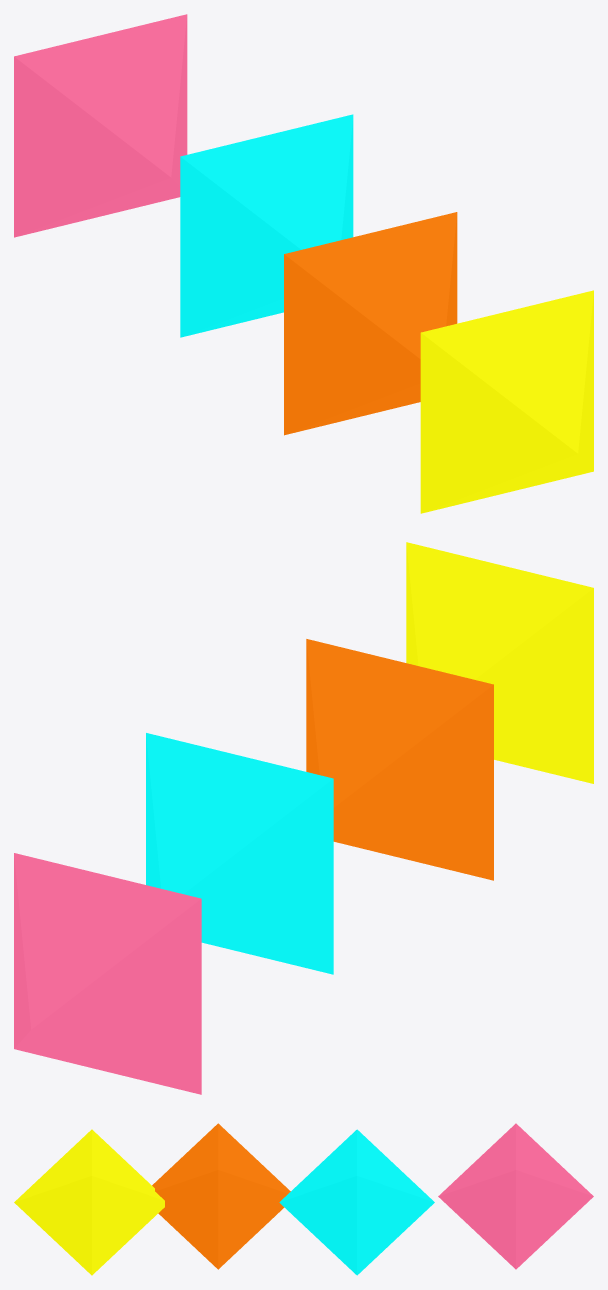
Rendered from hedra.fbx.
3 renders of one model, top to bottom at view 1: azimuth 30°, elevation 25°; view 2: azimuth 150°, elevation 25°; view 3: azimuth 270°, elevation 25°, orthographic. The views are drawn at different scales.
Parts seen in each view (by area): view 1: Hedra002, Hedra004, Hedra003, Hedra001; view 2: Hedra004, Hedra003, Hedra001, Hedra002; view 3: Hedra004, Hedra001, Hedra002, Hedra003.
Boxes of the visible parts, <box> form: Hedra002: <box>420,290,593,513</box>; Hedra004: <box>14,14,187,237</box>; Hedra003: <box>284,212,457,435</box>; Hedra001: <box>180,114,353,337</box>; Hedra004: <box>14,853,201,1094</box>; Hedra003: <box>306,639,493,880</box>; Hedra001: <box>146,733,333,974</box>; Hedra002: <box>406,542,593,783</box>; Hedra004: <box>438,1123,593,1269</box>; Hedra001: <box>279,1129,434,1275</box>; Hedra002: <box>14,1129,164,1275</box>; Hedra003: <box>152,1123,290,1269</box>.
Bounding box in the file's own units: 1778 × 1576 × 8292.
